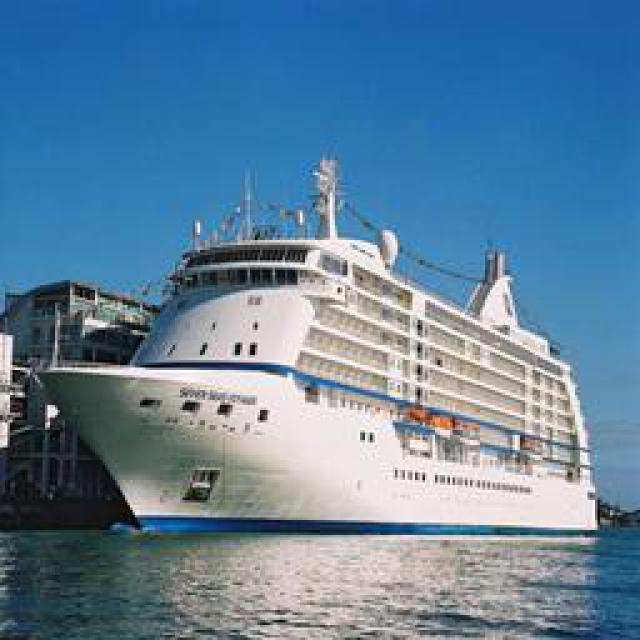Ship: (36, 209, 604, 539)
